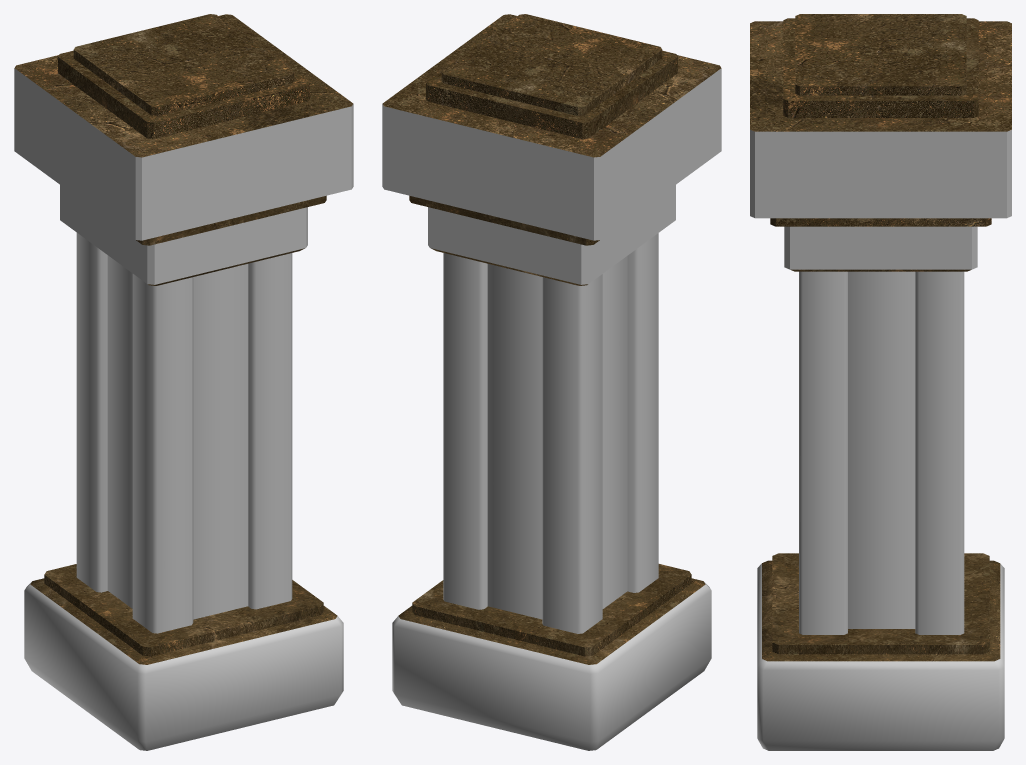
Rendered from DG_PilarBig_3m.FBX.
3 views of the same model, side by side, from view 1: azimuth 30°, elevation 25°; view 2: azimuth 150°, elevation 25°; view 3: azimuth 270°, elevation 25° (orthographic). The views are drawn at different scales.
Visible parts, largest first — view 1: DG_PilarBig_3m; view 2: DG_PilarBig_3m; view 3: DG_PilarBig_3m.
Boxes of the visible parts, left/top/right/bottom form: DG_PilarBig_3m: left=14, top=14, right=353, bottom=750; DG_PilarBig_3m: left=382, top=14, right=721, bottom=750; DG_PilarBig_3m: left=750, top=14, right=1011, bottom=750.
Bounding box in the file's own units: 109 × 300 × 109.
